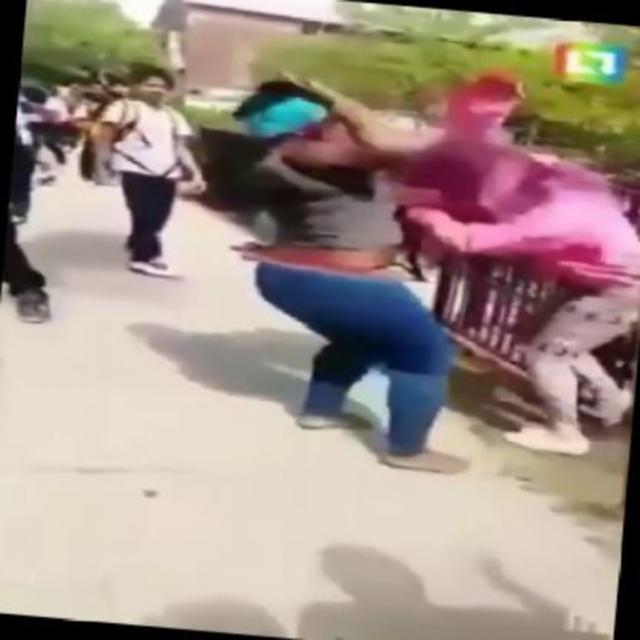fight: (202, 66, 638, 491)
